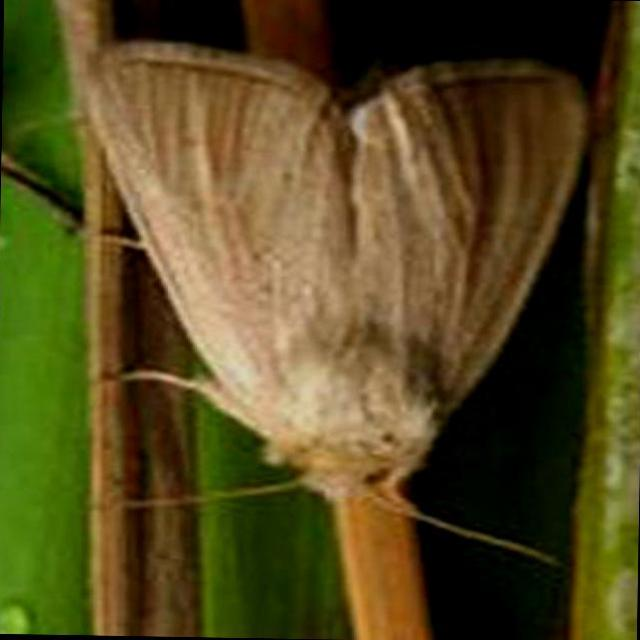stem borer: (89, 41, 585, 565)
